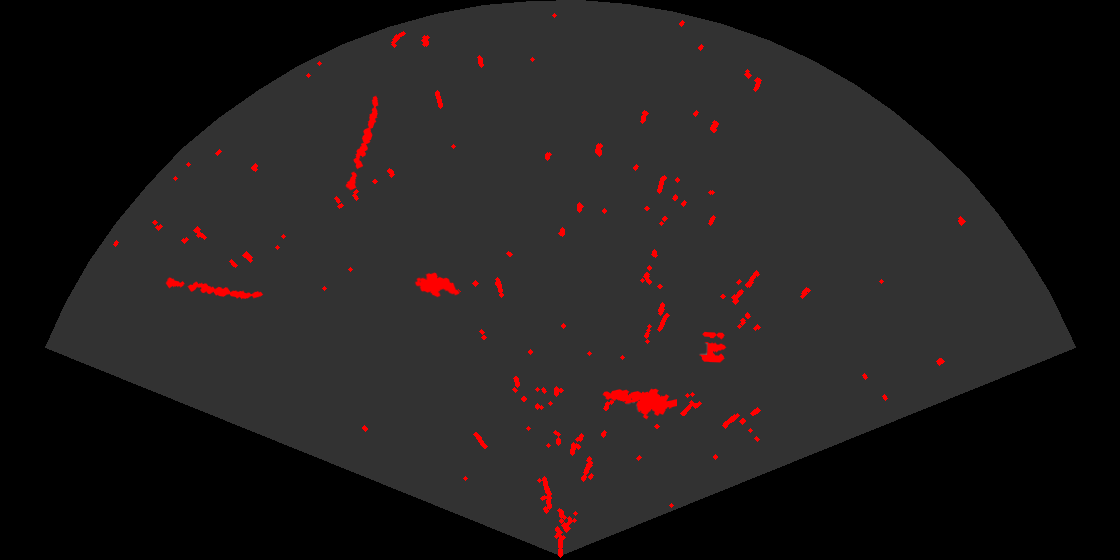AUV: (413, 271, 461, 299)
ball: (698, 330, 728, 364)
chain: (344, 94, 380, 193), (164, 276, 265, 301)
frogman: (601, 387, 677, 421)
